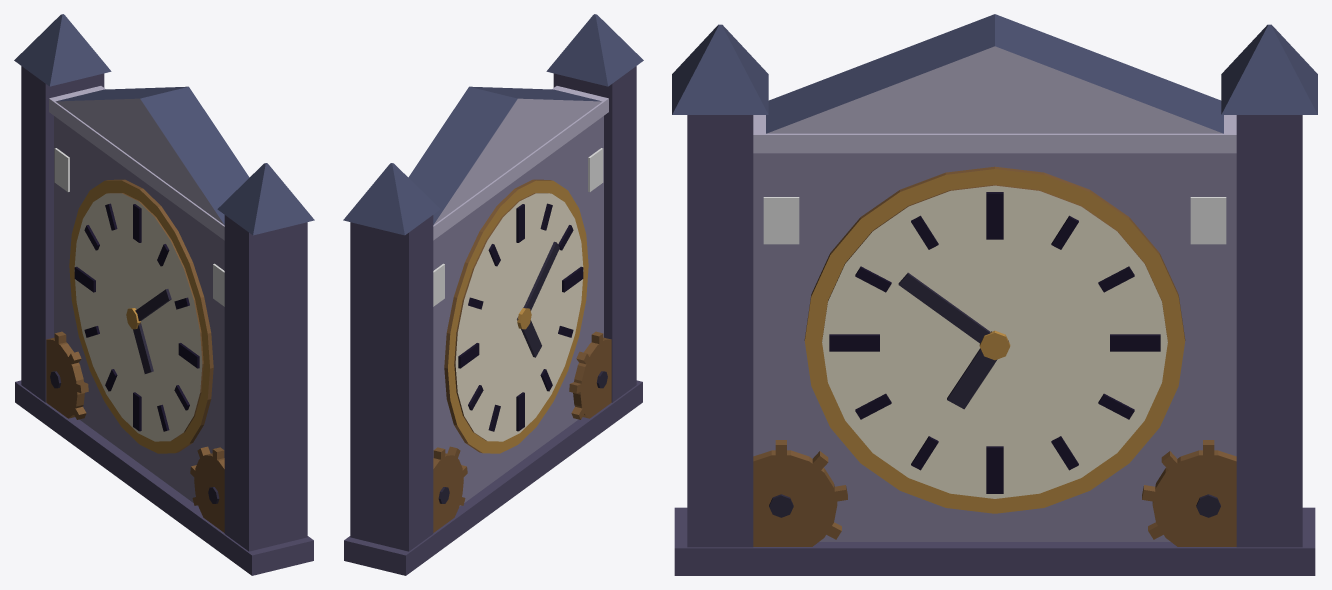
The model's file is Fair_ClockWall.fbx.
3 renders of one model, left to right at view 1: azimuth 30°, elevation 25°; view 2: azimuth 150°, elevation 25°; view 3: azimuth 270°, elevation 25°, orthographic. The views are drawn at different scales.
Visible parts, largest first — view 1: Fair_ClockWall; view 2: Fair_ClockWall; view 3: Fair_ClockWall.
Boxes of the visible parts, bbox=[...] form: Fair_ClockWall: bbox=[14, 14, 314, 575]; Fair_ClockWall: bbox=[343, 14, 643, 575]; Fair_ClockWall: bbox=[672, 14, 1317, 575].
Size of what is drawn, in the model's own units: 2 by 11.5 by 12.7.
Materials: 2 (1 with a texture image).
